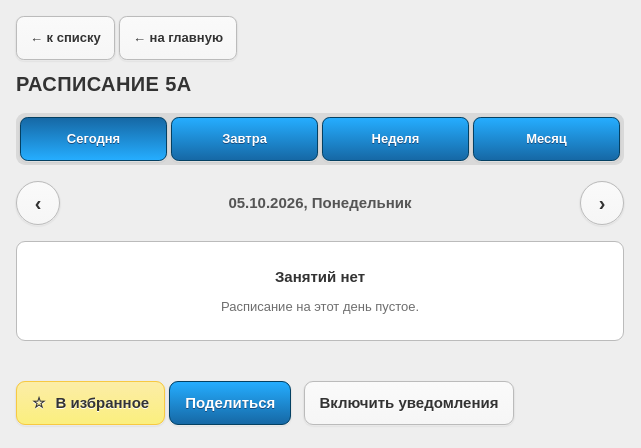
Test: Schedule screen › out-of-period calendar day (W41 fix) › shows a graceful notice instead of a 422 load error
This screenshot has width=641, height=448.
Click the tab "Месяц": (546, 139) x1=473 y1=117 x2=620 y2=161
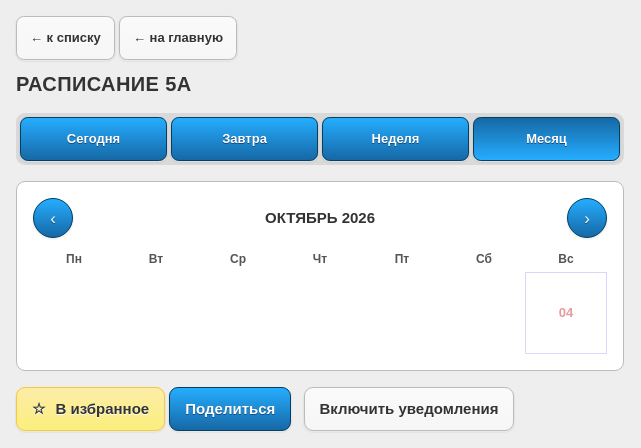
Click the button named "04.10.2026": (566, 313) x1=525 y1=272 x2=607 y2=354
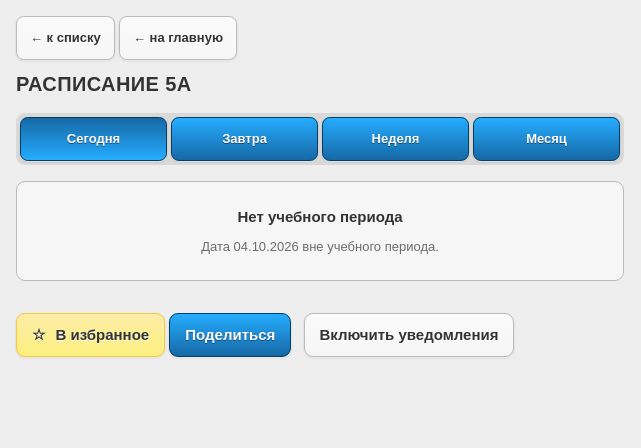
Expected: the text "Нет учебного периода" is shown, x1=237 y1=208 x2=403 y2=225
